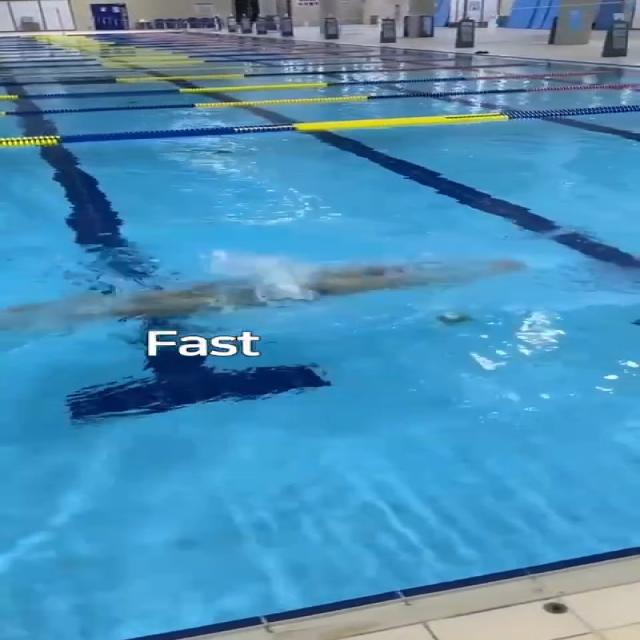Swimming: (13, 240, 555, 327)
